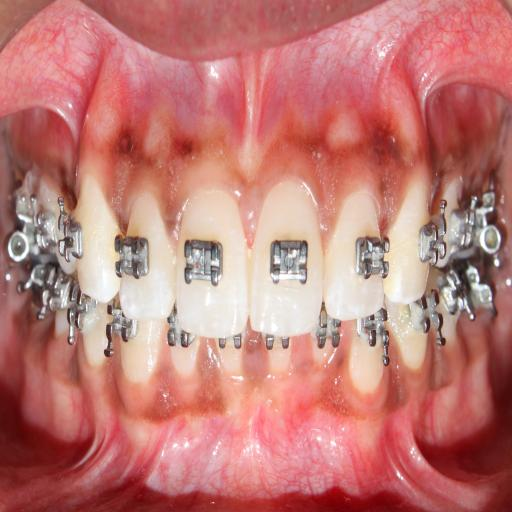correct_brace: (178, 232, 226, 292), (355, 224, 395, 289), (268, 234, 310, 294), (111, 229, 150, 287), (418, 213, 449, 268), (57, 212, 82, 266)
incorrect_brace: (322, 185, 390, 322), (118, 177, 174, 322)
